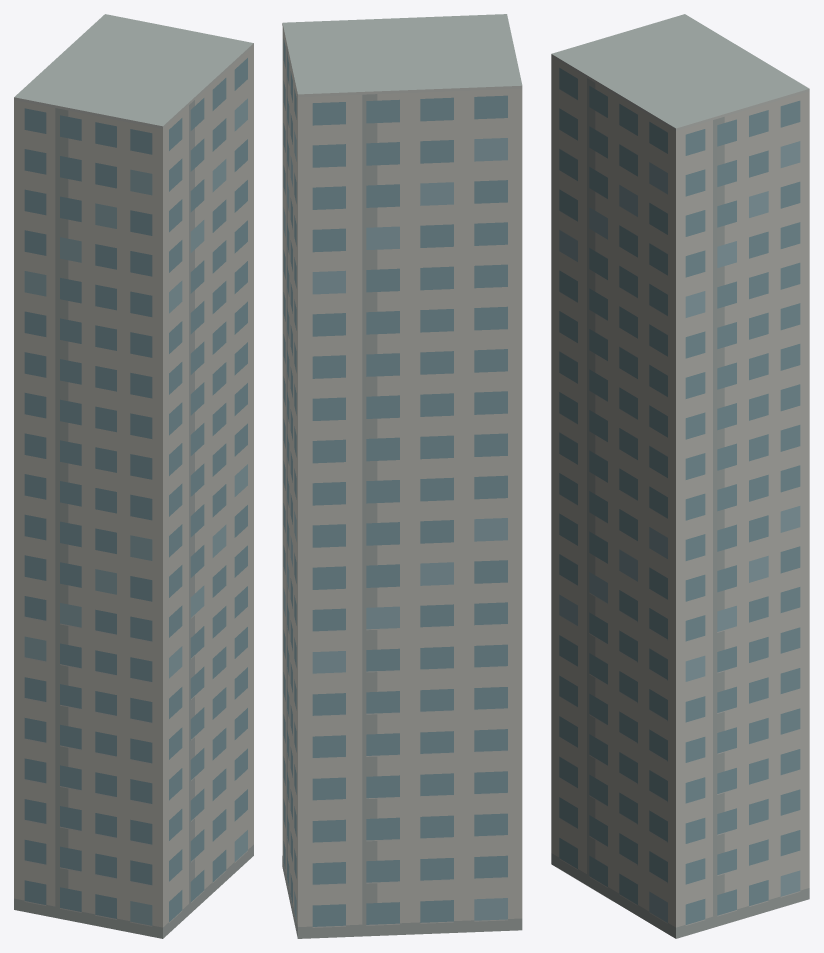
File: residential-2802dea1-a6a4-4190-80c4-e123a9086c3d.glb
3 views of the same model, side by side, from view 1: azimuth 30°, elevation 25°; view 2: azimuth 150°, elevation 25°; view 3: azimuth 270°, elevation 25° (orthographic). The views are drawn at different scales.
Parts seen in each view (by area): view 1: residential-2802dea1-a6a4-4190-80c4-e123a9086c3d.tmp; view 2: residential-2802dea1-a6a4-4190-80c4-e123a9086c3d.tmp; view 3: residential-2802dea1-a6a4-4190-80c4-e123a9086c3d.tmp.
Part boxes in pixels (x1,y1,x2,y2): residential-2802dea1-a6a4-4190-80c4-e123a9086c3d.tmp: (14,14,253,938); residential-2802dea1-a6a4-4190-80c4-e123a9086c3d.tmp: (282,14,522,938); residential-2802dea1-a6a4-4190-80c4-e123a9086c3d.tmp: (551,14,809,938).
Size of the model in its own units: 22.74 by 75 by 21.68.
